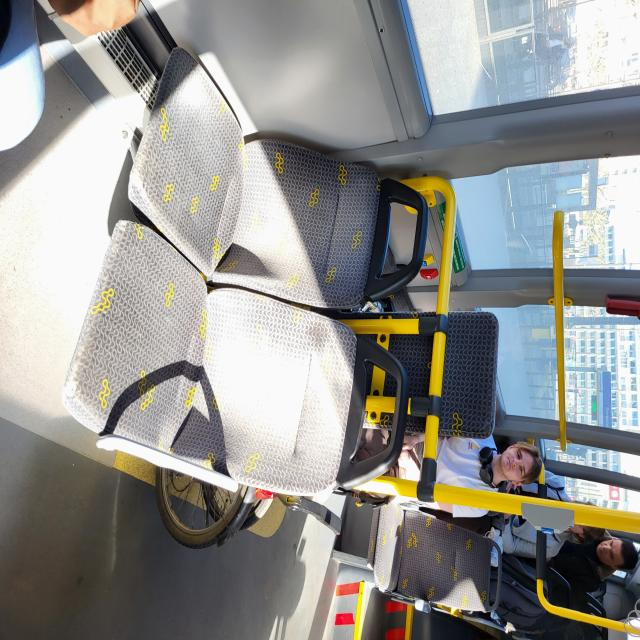asiento-libre: (193, 284, 391, 640), (338, 311, 531, 640), (538, 184, 620, 362)
